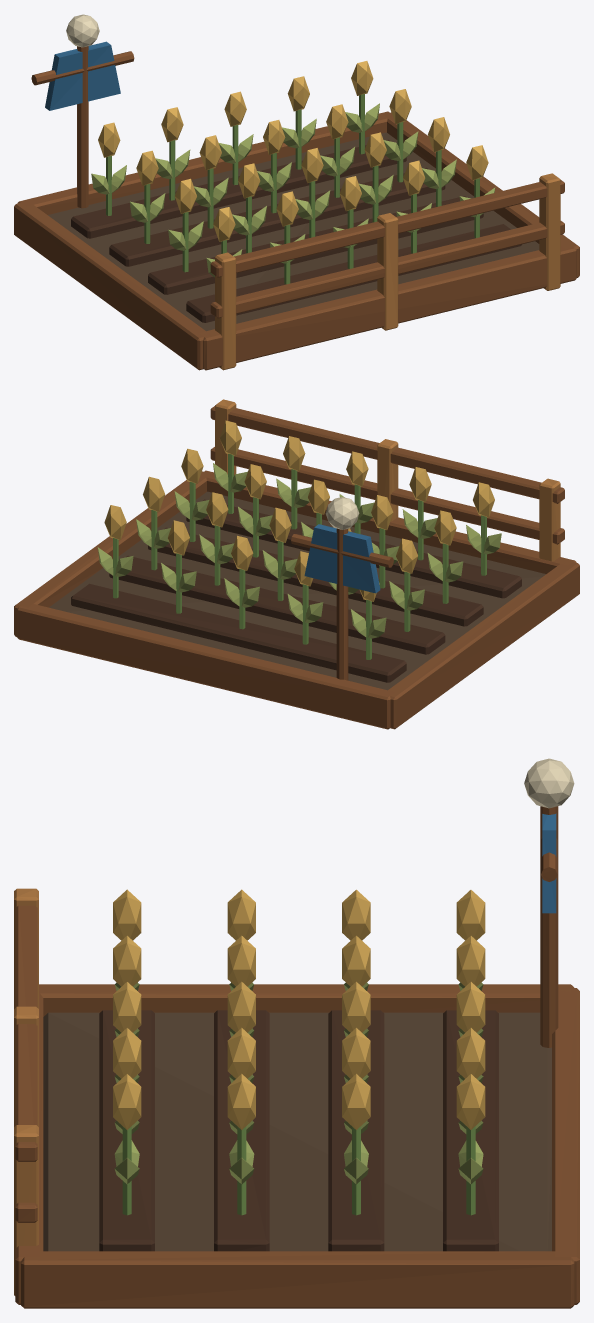
The model's file is building_farm.glb.
The picture shows the model from 3 angles, top to bottom: view 1: azimuth 30°, elevation 25°; view 2: azimuth 150°, elevation 25°; view 3: azimuth 270°, elevation 25°; orthographic projection. The views are drawn at different scales.
Parts seen in each view (by area): view 1: body; view 2: body; view 3: body.
Boxes of the visible parts, bbox=[...] form: body: bbox=[14, 14, 579, 370]; body: bbox=[14, 399, 579, 729]; body: bbox=[14, 758, 579, 1308].
Size of the model in its own units: 2.36 by 1.29 by 2.02.
